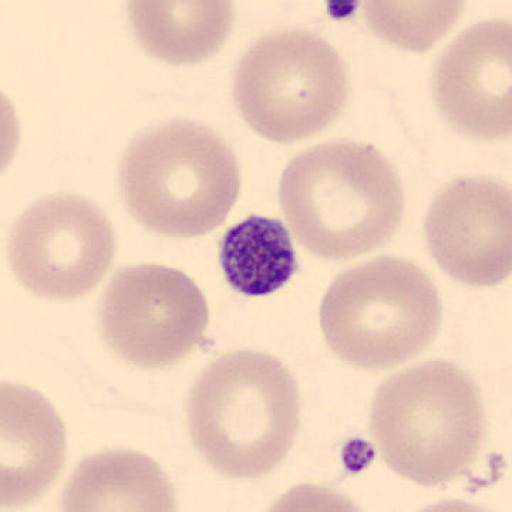Platelet: (216, 211, 302, 298)
RBC: (277, 137, 407, 262), (366, 357, 489, 489), (183, 346, 303, 481), (117, 114, 243, 240), (316, 252, 443, 372), (228, 25, 351, 146), (4, 191, 118, 304), (96, 260, 210, 370), (429, 17, 512, 143), (422, 173, 512, 288), (2, 376, 68, 510), (57, 443, 181, 512), (122, 0, 236, 68), (359, 0, 469, 54), (253, 479, 376, 512), (0, 87, 21, 180), (397, 495, 505, 512)
